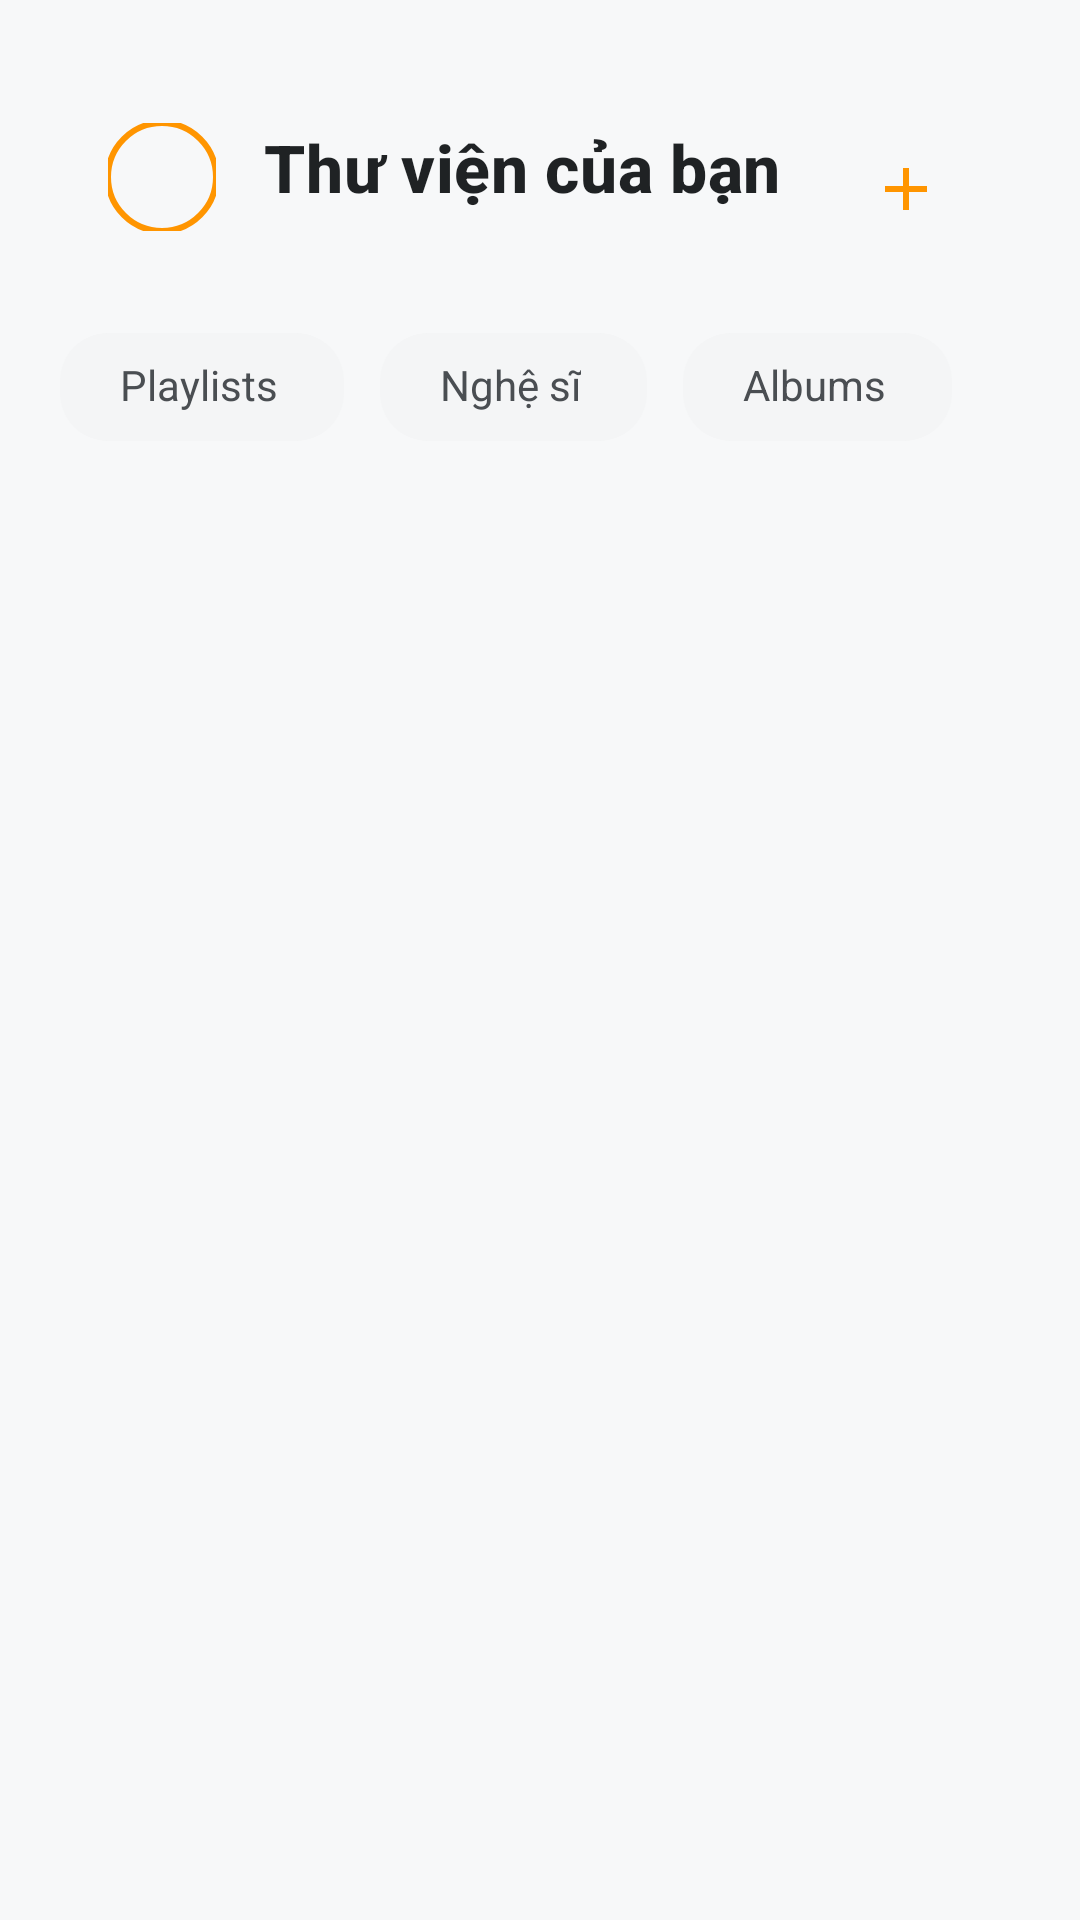

Icon click points for this 1080*1920 phone screenshot, format (x,y):
Thêm mới: (906,189)
